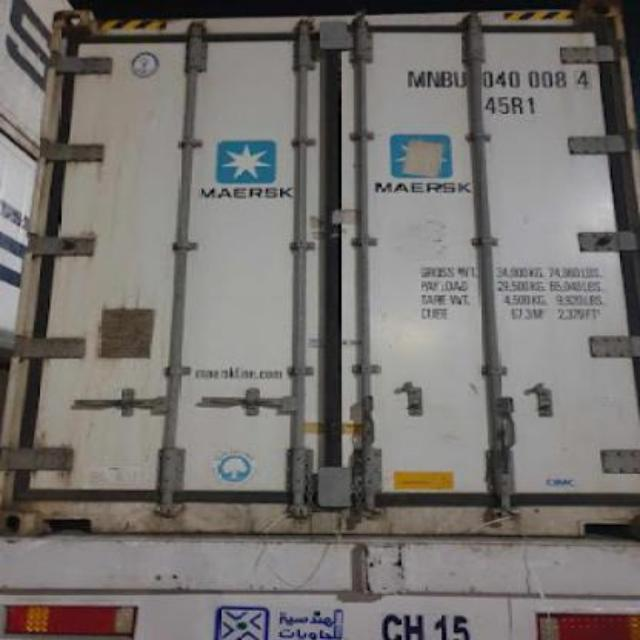0: (506, 62, 522, 92), (524, 60, 540, 90), (481, 60, 494, 90), (542, 60, 552, 92)
4: (576, 67, 590, 91), (496, 66, 508, 90)
8: (554, 62, 570, 94)
B: (440, 63, 452, 93)
M: (404, 64, 426, 92)
N: (426, 66, 442, 92)
U: (452, 60, 468, 94)
